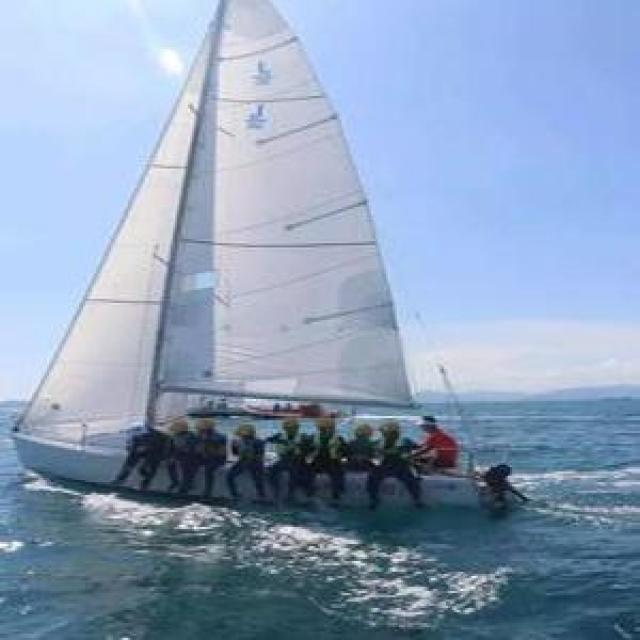sailboat: (16, 0, 534, 538)
